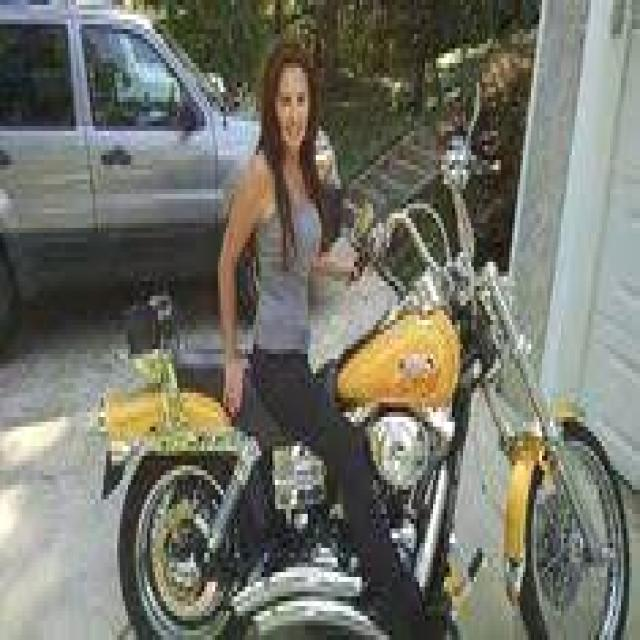MOTORCYCLE: (105, 276, 640, 637)
